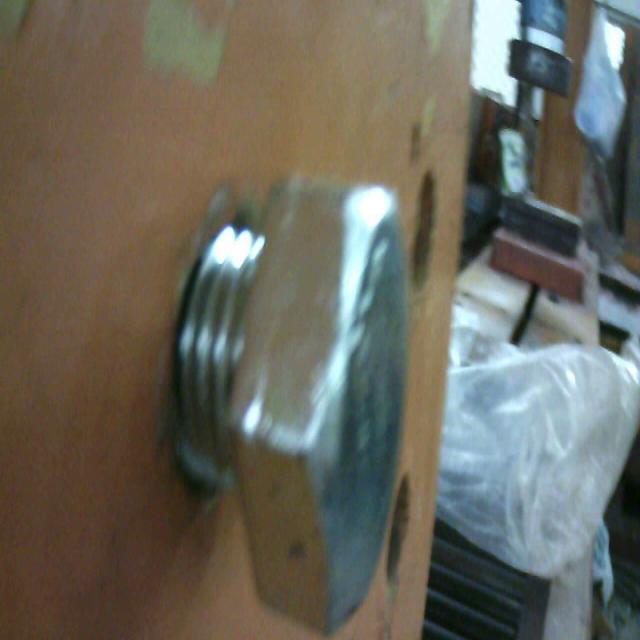Loose bolt: (171, 175, 411, 636)
Missing bolt: (412, 166, 441, 295), (386, 469, 419, 579)
Regular bolt: (182, 181, 405, 625)
